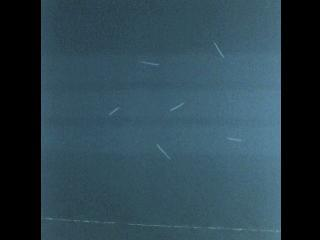crack: (41, 216, 280, 235)
scratch: (154, 140, 174, 163), (211, 40, 228, 62), (138, 57, 161, 70), (167, 100, 186, 114), (224, 134, 246, 145), (107, 104, 122, 118)
